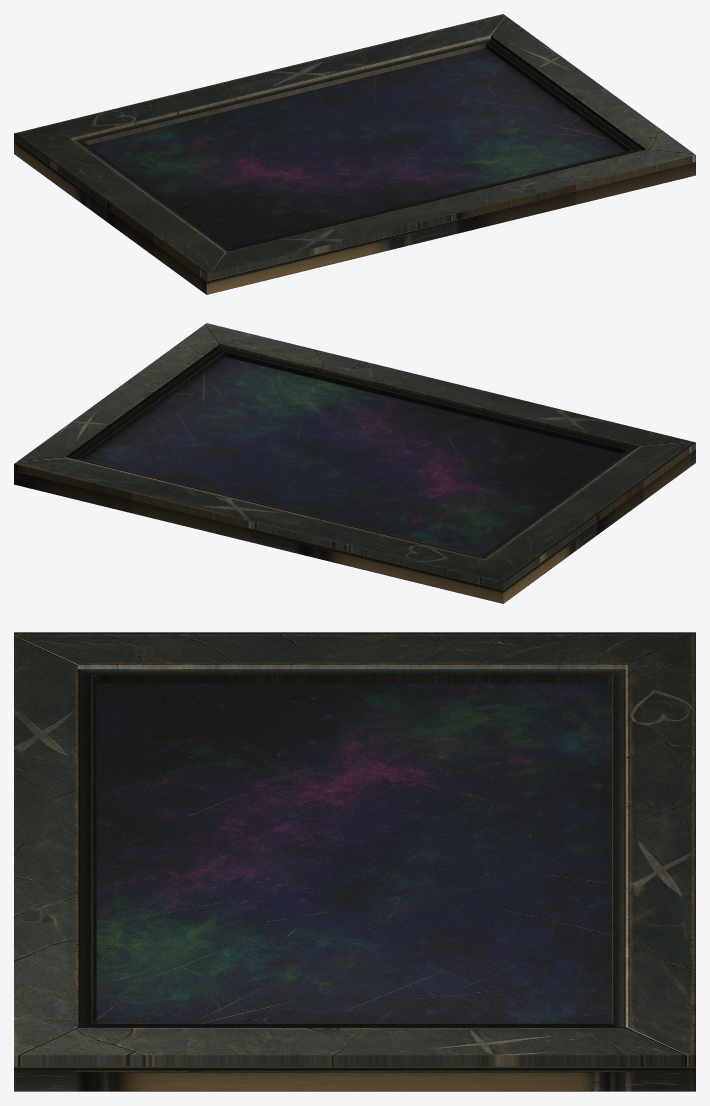
The model's file is ergenanı1.fbx.
3 renders of one model, top to bottom at view 1: azimuth 30°, elevation 25°; view 2: azimuth 150°, elevation 25°; view 3: azimuth 270°, elevation 25°, orthographic. The views are drawn at different scales.
Visible parts, largest first — view 1: Ergen Anı 1; view 2: Ergen Anı 1; view 3: Ergen Anı 1.
Part boxes in pixels (<box>): Ergen Anı 1: <box>14,14,695,294</box>; Ergen Anı 1: <box>14,323,695,603</box>; Ergen Anı 1: <box>14,632,695,1091</box>.
Size of the model in its own units: 403 by 16.18 by 275.
